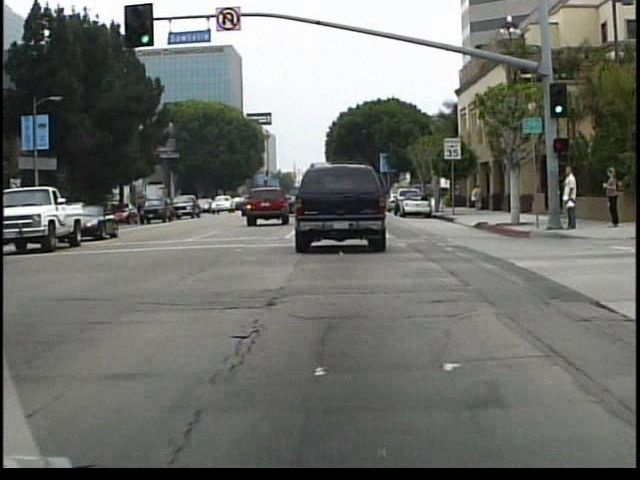person: (555, 161, 577, 237), (602, 162, 621, 229), (470, 181, 487, 217), (427, 185, 440, 215)
